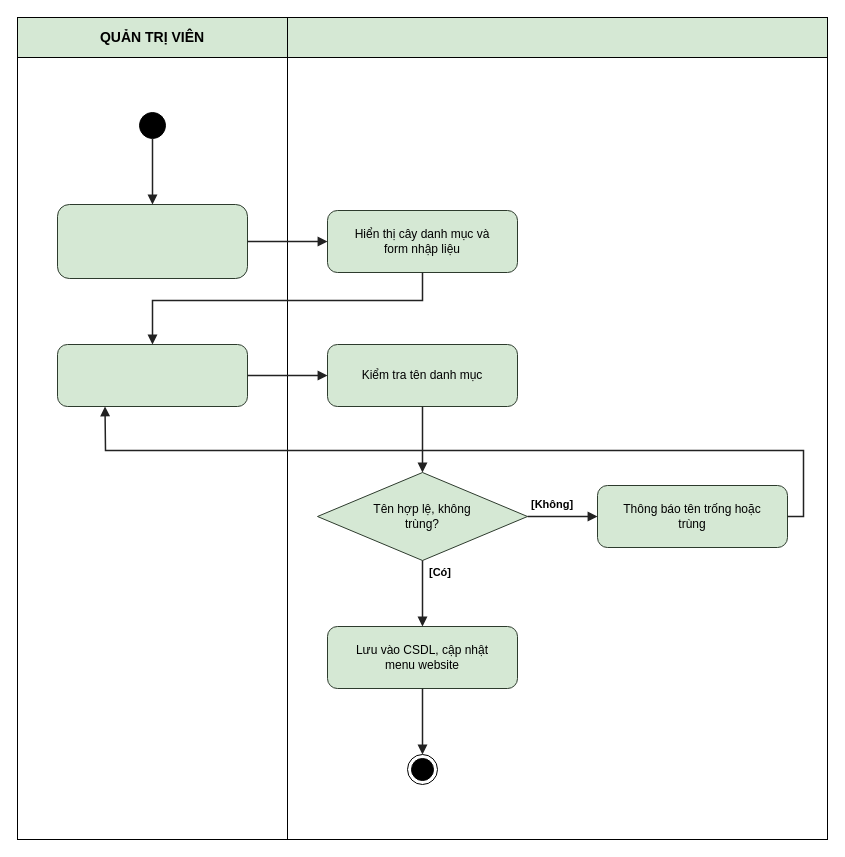
The diagram is 845 pixels wide and 857 high, and some of its shapes have lost their labels. The shapes that lost their labels are listed below. From the top down, each one's centre as x and y in pixels, then its label:
pixel 557 37: HỆ THỐNG
pixel 152 241: Vào "Quản lý danh mục", click "Thêm danh mục mới" hoặc "Sửa"
pixel 152 375: Nhập tên (Việt, Anh), danh mục cha, thứ tự, click "Lưu"
